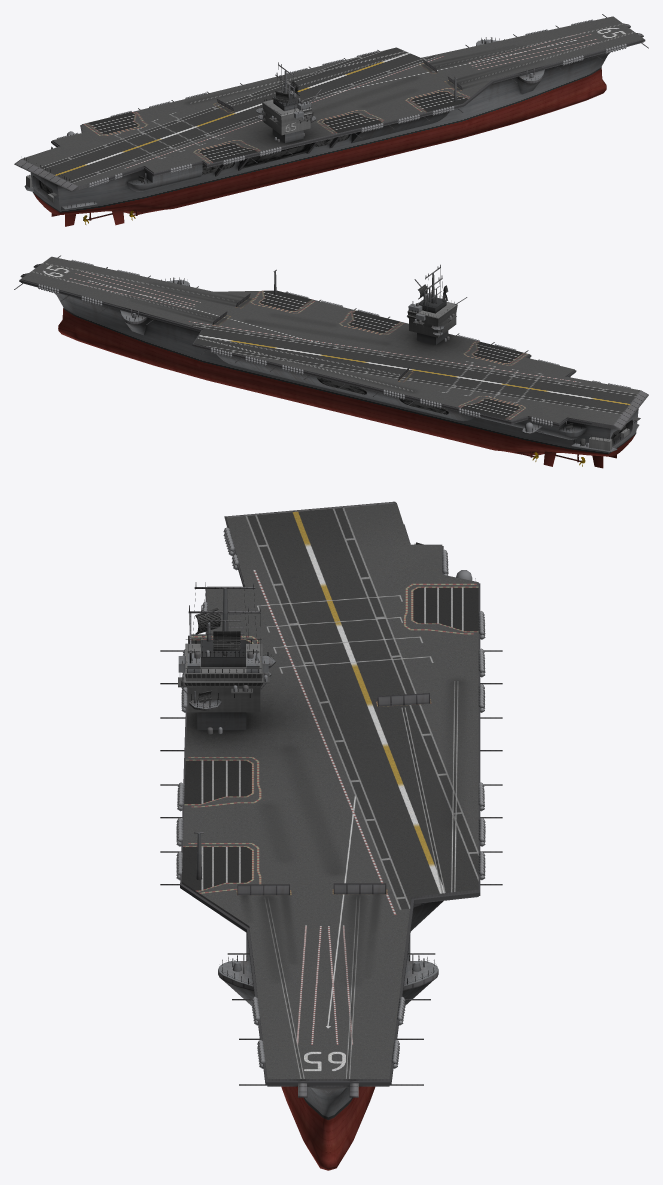
Rendered from AircraftCarrier.fbx.
The picture shows the model from 3 angles, top to bottom: view 1: azimuth 30°, elevation 25°; view 2: azimuth 150°, elevation 25°; view 3: azimuth 270°, elevation 25°; orthographic projection. The views are drawn at different scales.
Parts seen in each view (by area): view 1: Desk, Corpus; view 2: Desk, Corpus; view 3: Desk, Corpus.
Part boxes in pixels (bbox=[...]): Desk: bbox=[14, 16, 645, 191]; Corpus: bbox=[24, 14, 648, 226]; Desk: bbox=[19, 256, 648, 430]; Corpus: bbox=[14, 255, 640, 468]; Desk: bbox=[180, 501, 480, 1086]; Corpus: bbox=[160, 527, 502, 1170].
Size of the model in its own units: 9.86 by 1.98 by 2.41.
